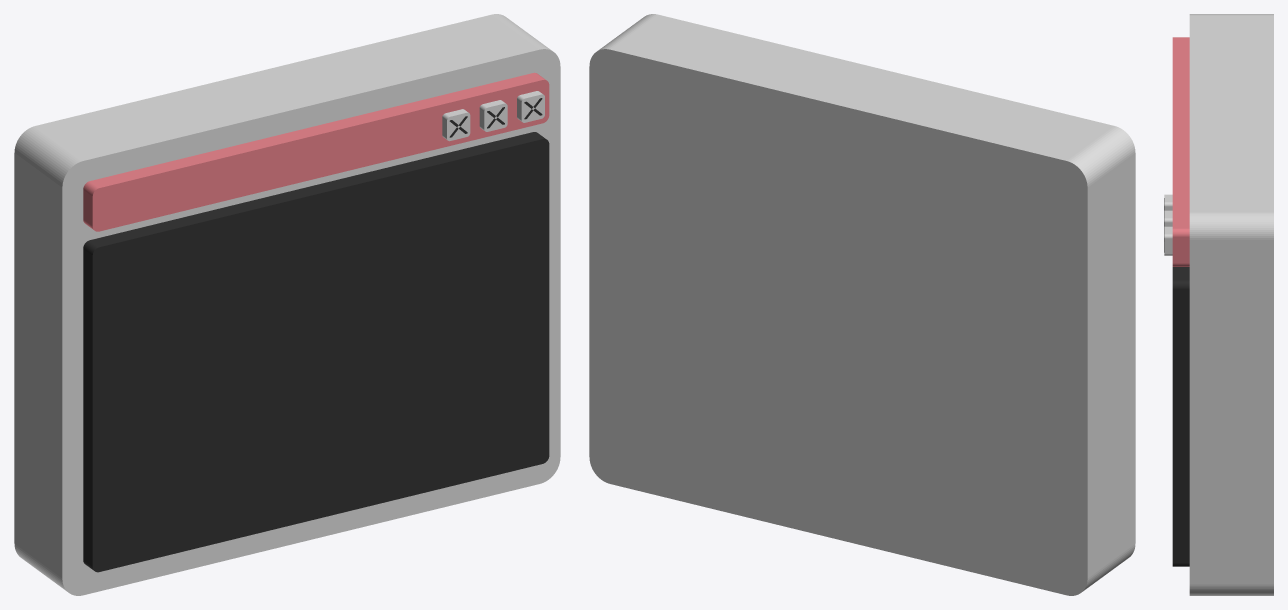
Rendered from window.glb.
3 renders of one model, left to right at view 1: azimuth 30°, elevation 25°; view 2: azimuth 150°, elevation 25°; view 3: azimuth 270°, elevation 25°, orthographic. The views are drawn at different scales.
Visible parts, largest first — view 1: Cube; view 2: Cube; view 3: Cube.
Boxes of the visible parts, box(x1,y1,x2,y2) form: Cube: box(14, 14, 560, 595); Cube: box(589, 14, 1135, 595); Cube: box(1164, 14, 1273, 595).
Bounding box in the file's own units: 6 × 5 × 1.3.
